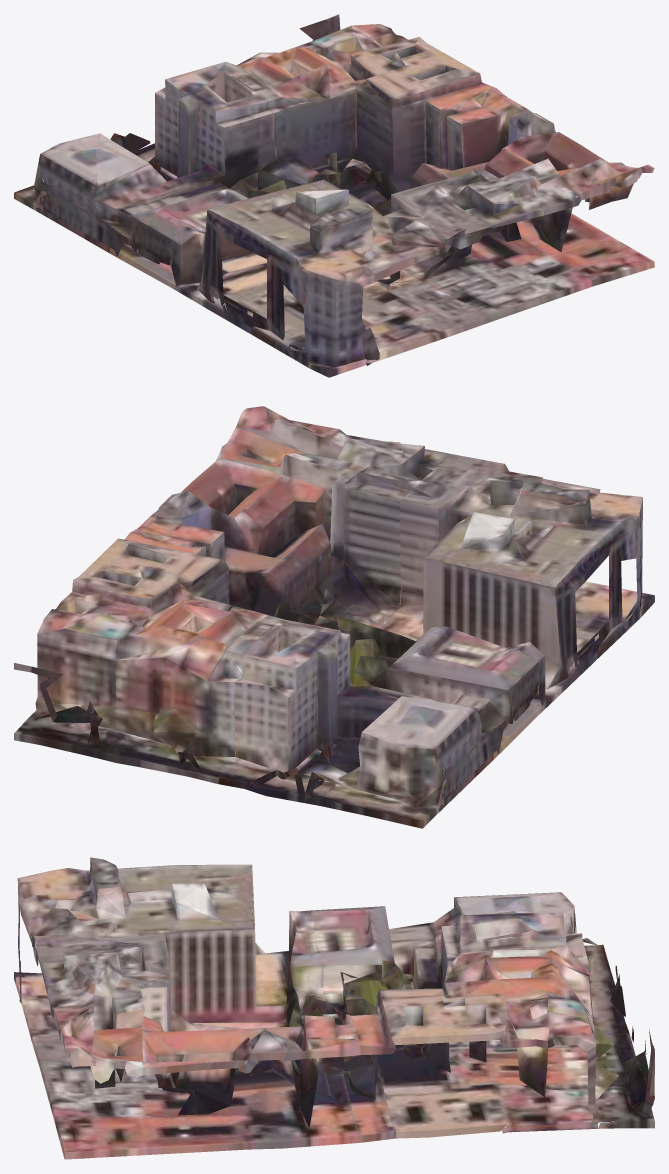
3 views of the same model, one above another, from view 1: azimuth 30°, elevation 25°; view 2: azimuth 150°, elevation 25°; view 3: azimuth 270°, elevation 25° (orthographic). The views are drawn at different scales.
Visible parts, largest first — view 1: Mesh_0; view 2: Mesh_0; view 3: Mesh_0.
Part boxes in pixels (<box>): Mesh_0: <box>14,14,654,377</box>; Mesh_0: <box>14,406,654,828</box>; Mesh_0: <box>14,857,654,1159</box>.
Size of the model in its own units: 133 by 39 by 165.
1 material, 1 textured.
